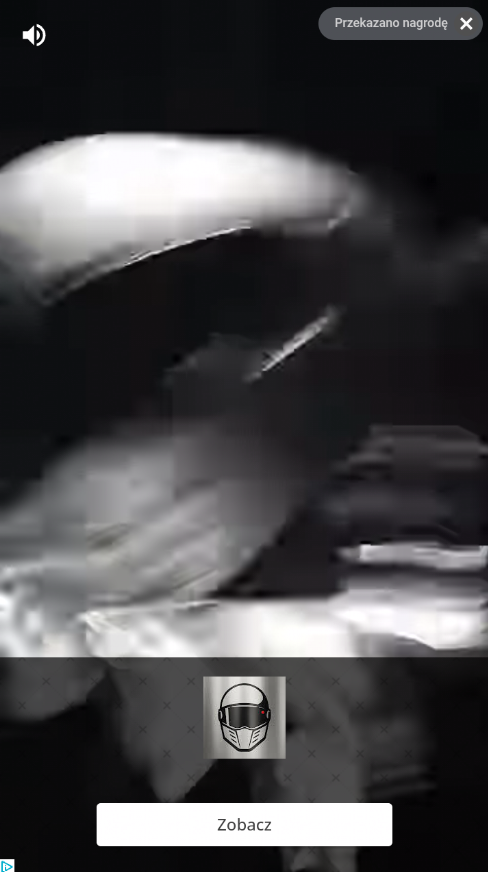close_button: (455, 13, 476, 36)
